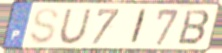7: (89, 8, 122, 46), (154, 7, 182, 47)
B: (175, 8, 212, 47)
I: (128, 7, 149, 47)
S: (28, 7, 61, 46)
U: (58, 8, 94, 46)
